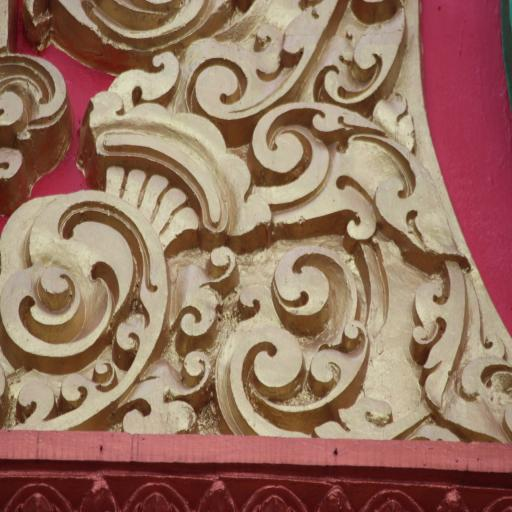la: (0, 114, 235, 432), (250, 89, 458, 262), (225, 245, 372, 434), (408, 262, 512, 448), (180, 0, 338, 120), (316, 0, 412, 112)
